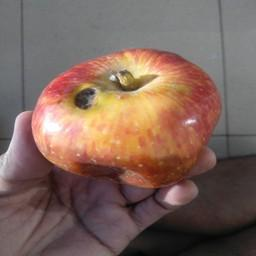Bad_apple: (28, 43, 221, 186)
